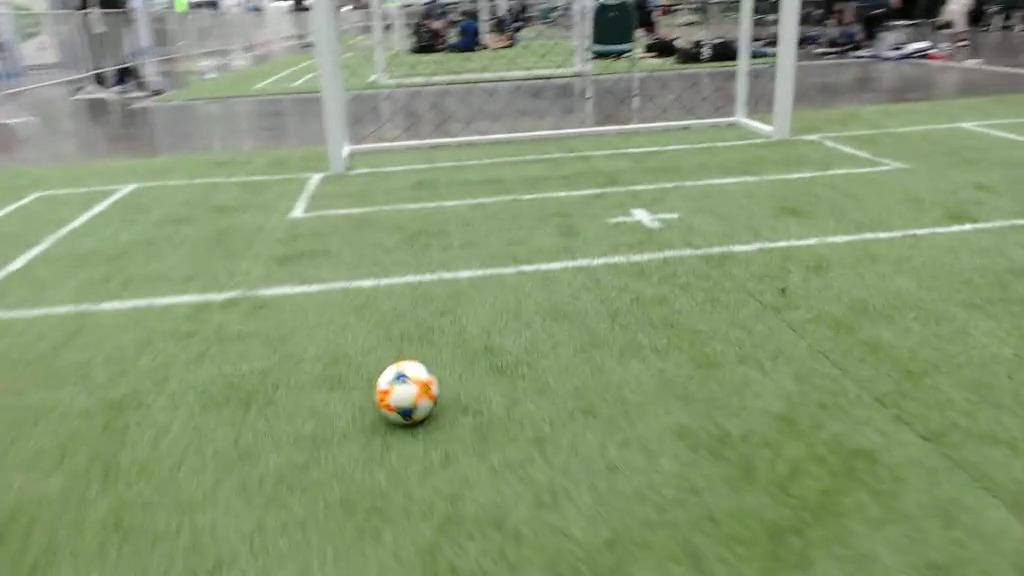ball: (376, 359, 440, 428)
